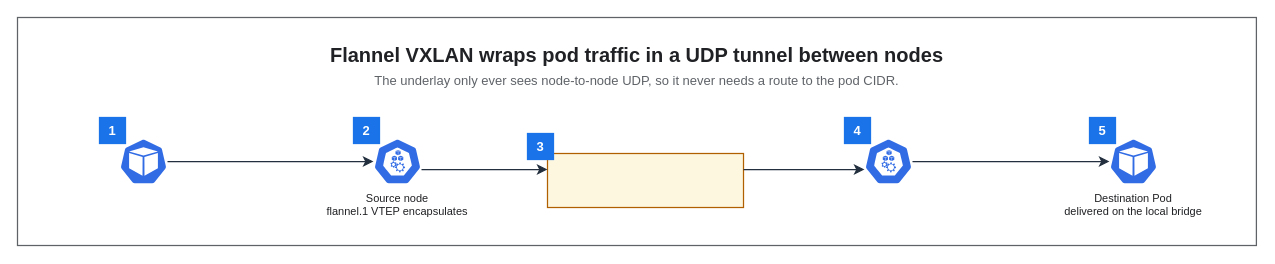
Some shapes in this 1275 by 264 pixel diagram are drawn without their labels. The shapes that lost their labels are listed below. From the top down, each one's centre as x and y in pixels, then its label:
point 143,161: Source Pod leaves through the cni0 bridge
point 645,180: VXLAN tunnel UDP port 8472 between nodes
point 888,161: Remote node decapsulates the frame
